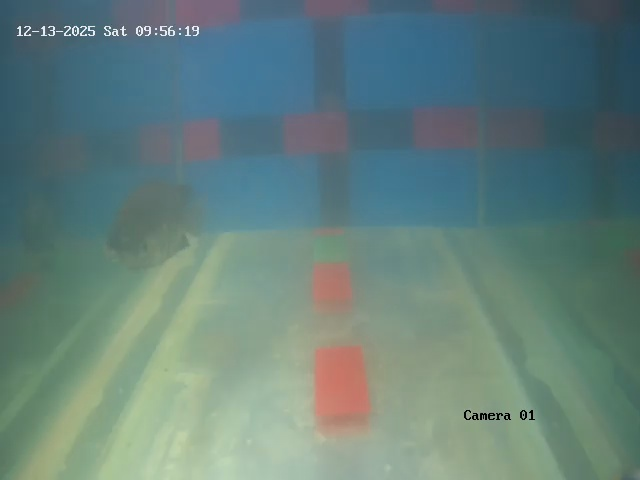fish: (91, 171, 210, 277)
